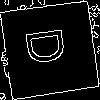D: (25, 24, 75, 67)
